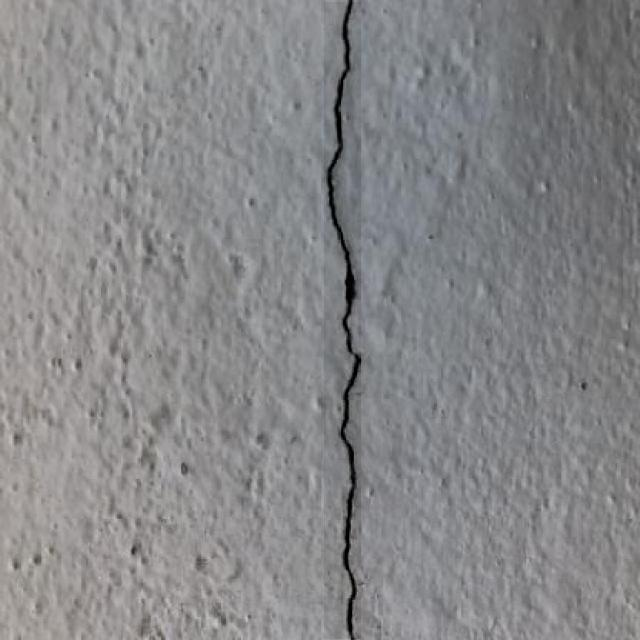Crack: (323, 0, 365, 639)
